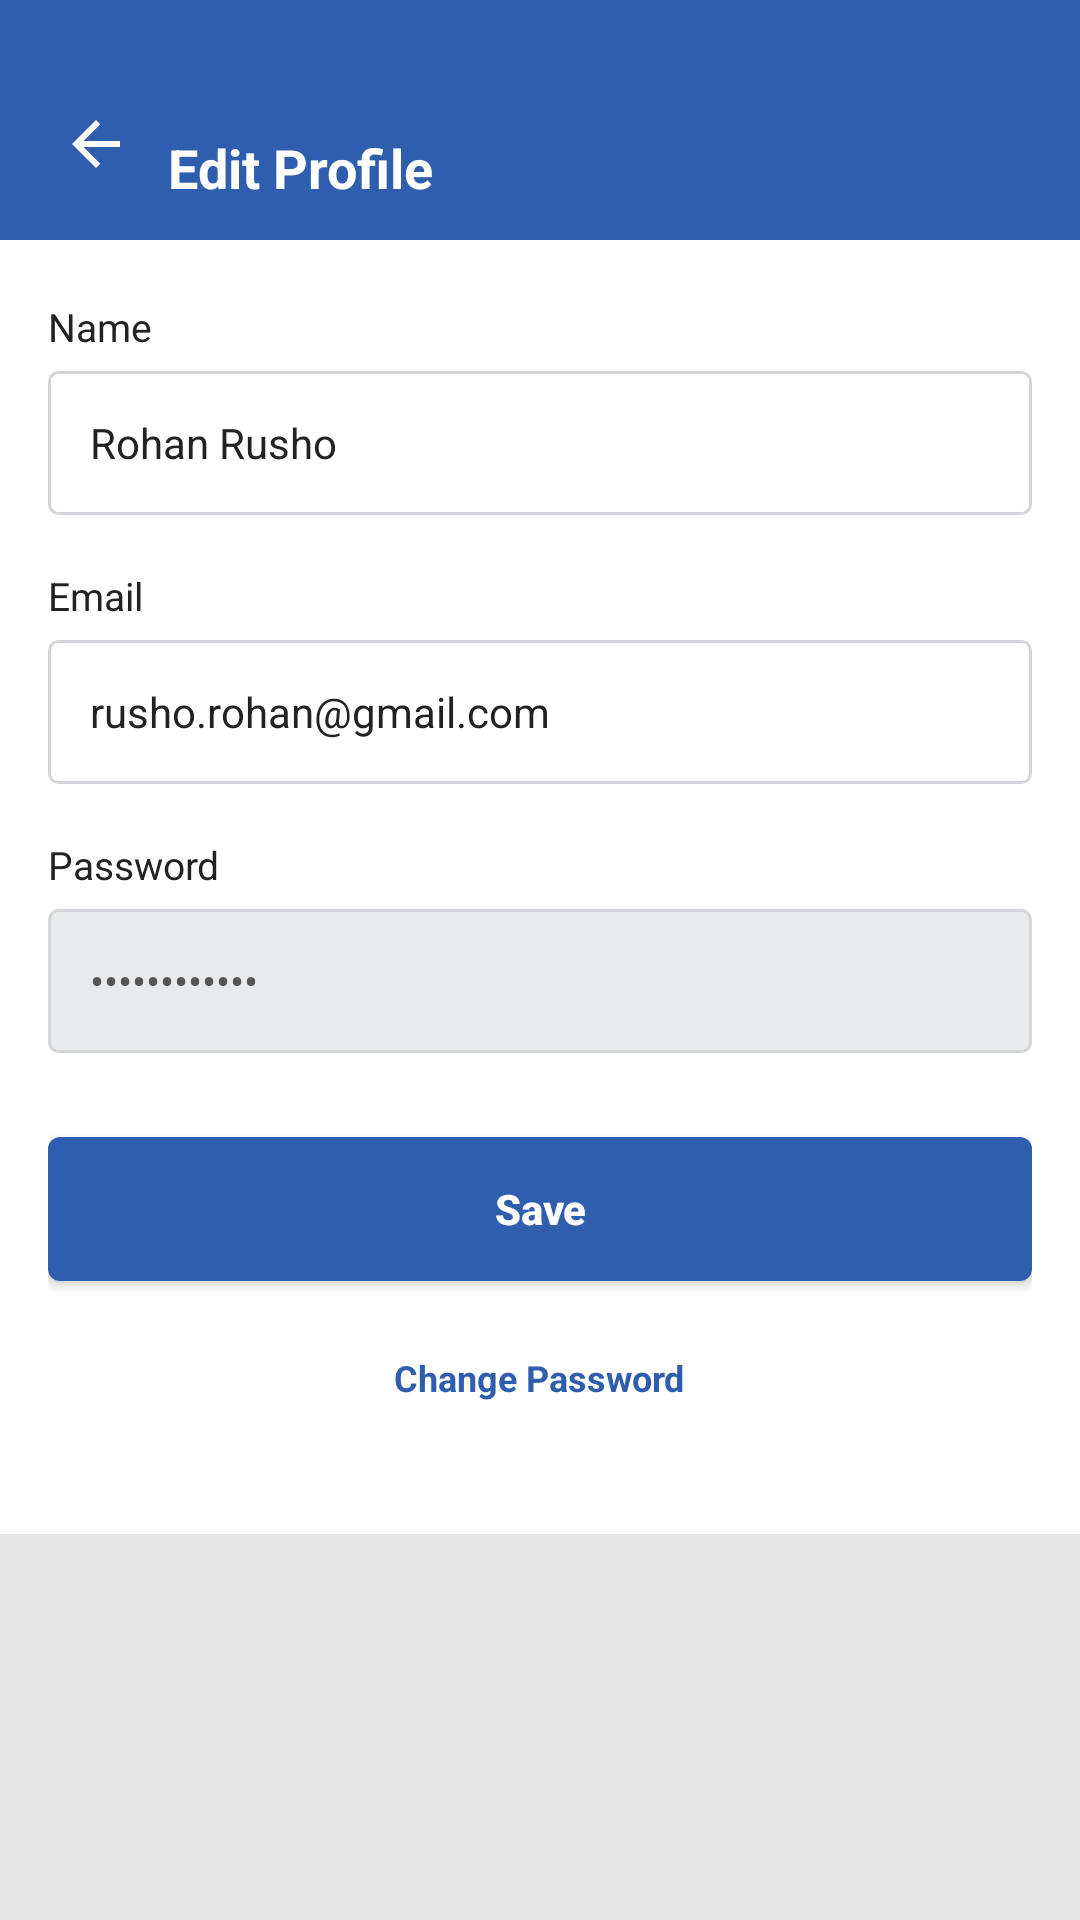

Screen size 1080 × 1920. Icon name, then its center in pixels as point (x, y):
Back: point (96, 144)
